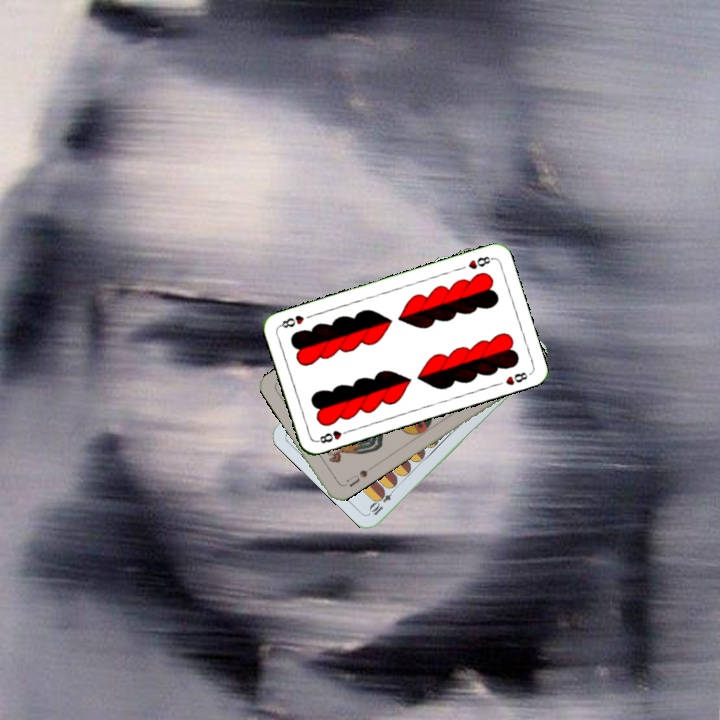E10: (366, 483, 399, 518)
H8: (313, 426, 353, 446), (464, 252, 495, 272)
SU: (339, 465, 370, 490)
